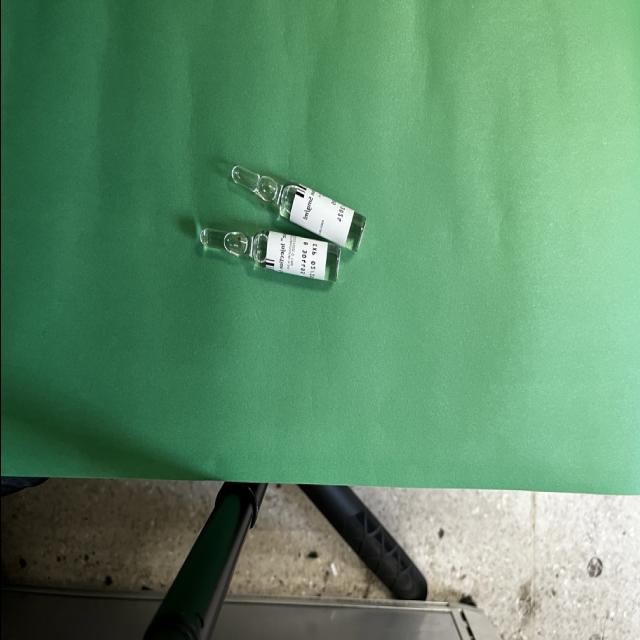Ampoules: (230, 165, 365, 252), (198, 229, 340, 281)
